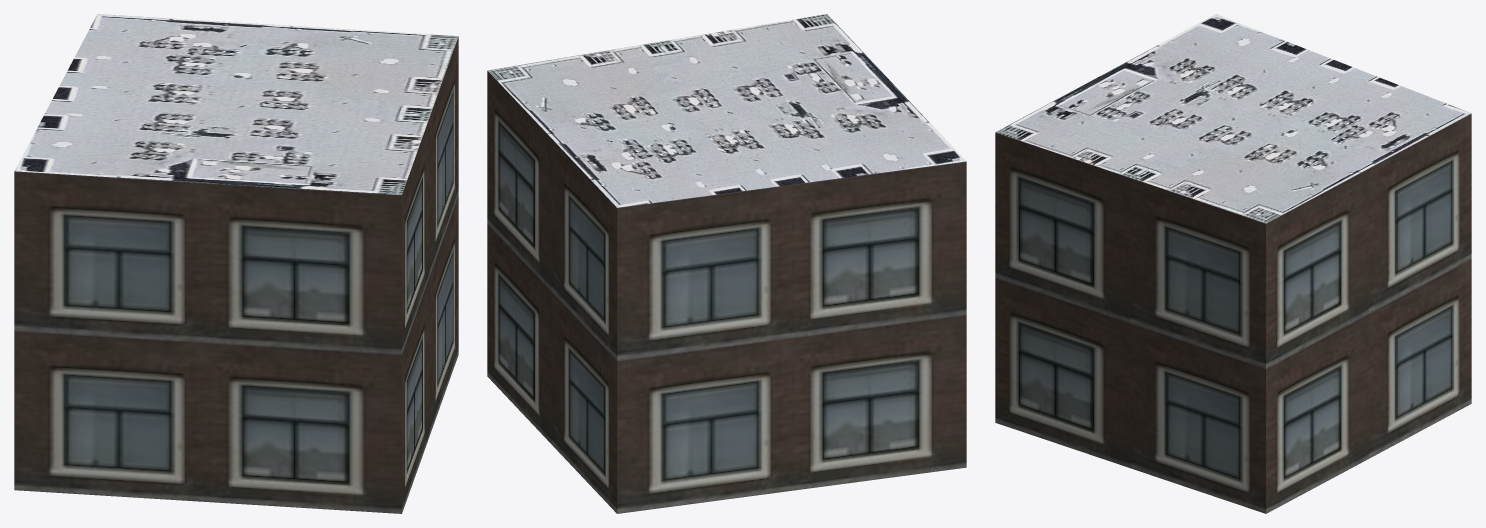
File: ResTex__1385.fbx
3 renders of one model, left to right at view 1: azimuth 30°, elevation 25°; view 2: azimuth 150°, elevation 25°; view 3: azimuth 270°, elevation 25°, orthographic. The views are drawn at different scales.
Parts seen in each view (by area): view 1: CityEngineMaterial_16_m, CityEngineMaterial_15_m; view 2: CityEngineMaterial_16_m, CityEngineMaterial_15_m; view 3: CityEngineMaterial_16_m, CityEngineMaterial_15_m.
Part boxes in pixels (x1,y1,x2,y2): CityEngineMaterial_16_m: [14, 36, 458, 513]; CityEngineMaterial_15_m: [15, 14, 458, 194]; CityEngineMaterial_16_m: [487, 71, 966, 513]; CityEngineMaterial_15_m: [487, 14, 966, 207]; CityEngineMaterial_16_m: [995, 113, 1471, 513]; CityEngineMaterial_15_m: [995, 14, 1471, 223].
Bounding box in the file's own units: 9.29 × 6 × 8.93.
2 materials, 2 textured.
